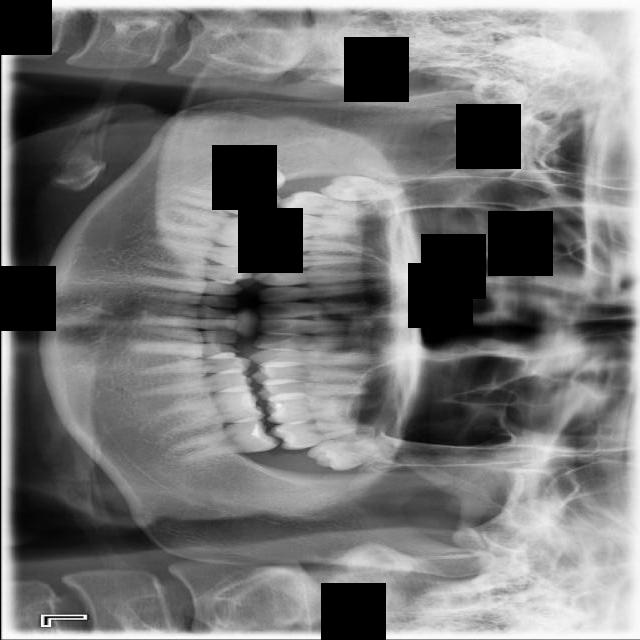3M ESPE Implant: (317, 175, 409, 201)
52: (264, 392, 310, 426)
73: (26, 620, 34, 628)
BioHorizons Implant: (267, 420, 387, 451)
BioLife Implant: (307, 439, 394, 471)
Blue Sky Bio Implant: (169, 413, 281, 464)
Caries: (277, 189, 392, 222)
Implant: (170, 183, 281, 221)
Keystone Dental Implant: (216, 146, 287, 204)
